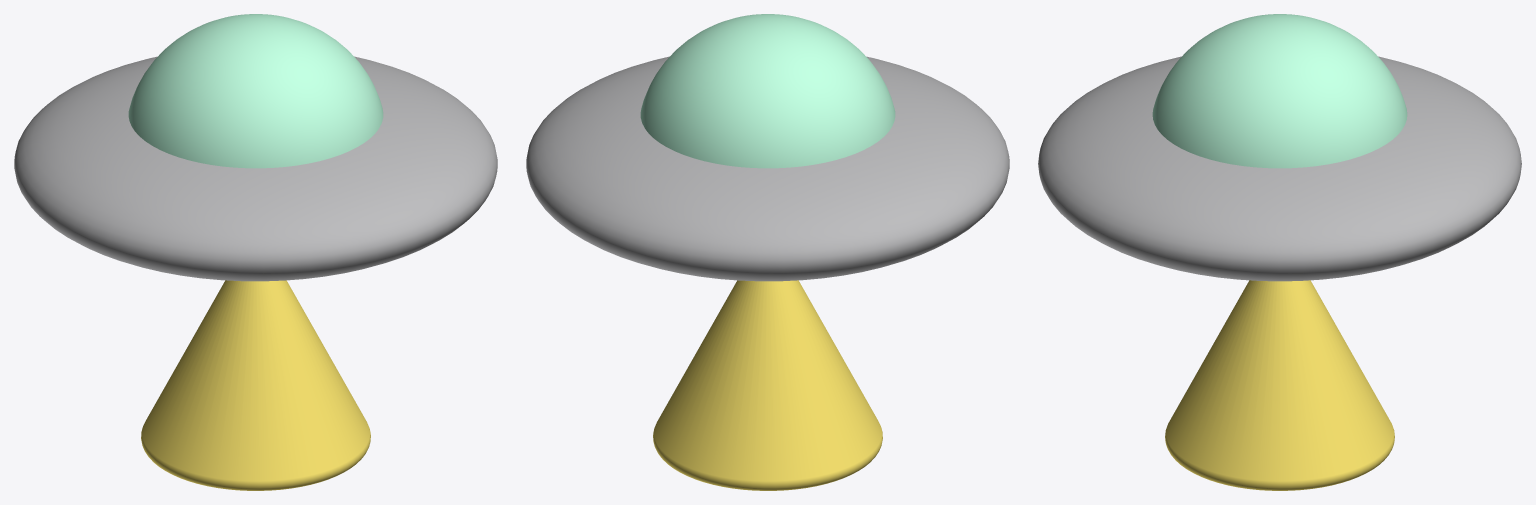
Rendered from alien.gltf.
The picture shows the model from 3 angles, left to right: view 1: azimuth 30°, elevation 25°; view 2: azimuth 150°, elevation 25°; view 3: azimuth 270°, elevation 25°; orthographic projection.
Visible parts, largest first — view 1: Sphere, Cone, Sphere 1; view 2: Sphere, Cone, Sphere 1; view 3: Sphere, Cone, Sphere 1.
Part boxes in pixels (left/top/right/bottom): Sphere: left=14, top=56, right=497, bottom=281; Cone: left=141, top=280, right=370, bottom=490; Sphere 1: left=128, top=14, right=383, bottom=168; Sphere: left=526, top=56, right=1009, bottom=281; Cone: left=653, top=280, right=882, bottom=490; Sphere 1: left=640, top=14, right=895, bottom=168; Sphere: left=1038, top=56, right=1521, bottom=281; Cone: left=1165, top=280, right=1394, bottom=490; Sphere 1: left=1152, top=14, right=1407, bottom=168.
Size of the model in its own units: 0.2 by 0.191 by 0.2.
